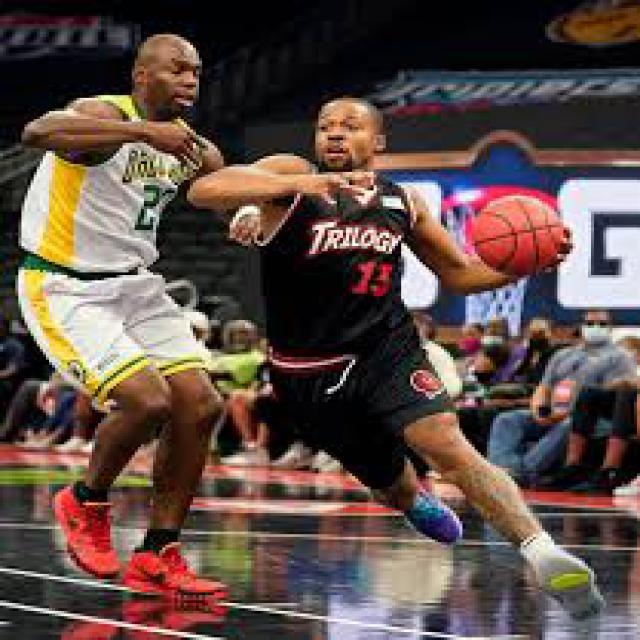basketball: (472, 195, 564, 278)
